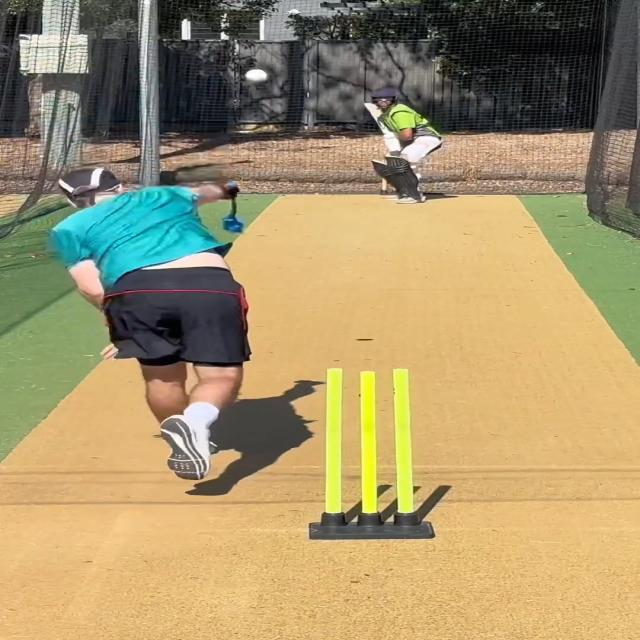ball: (243, 67, 269, 85)
stump: (308, 366, 436, 540)
